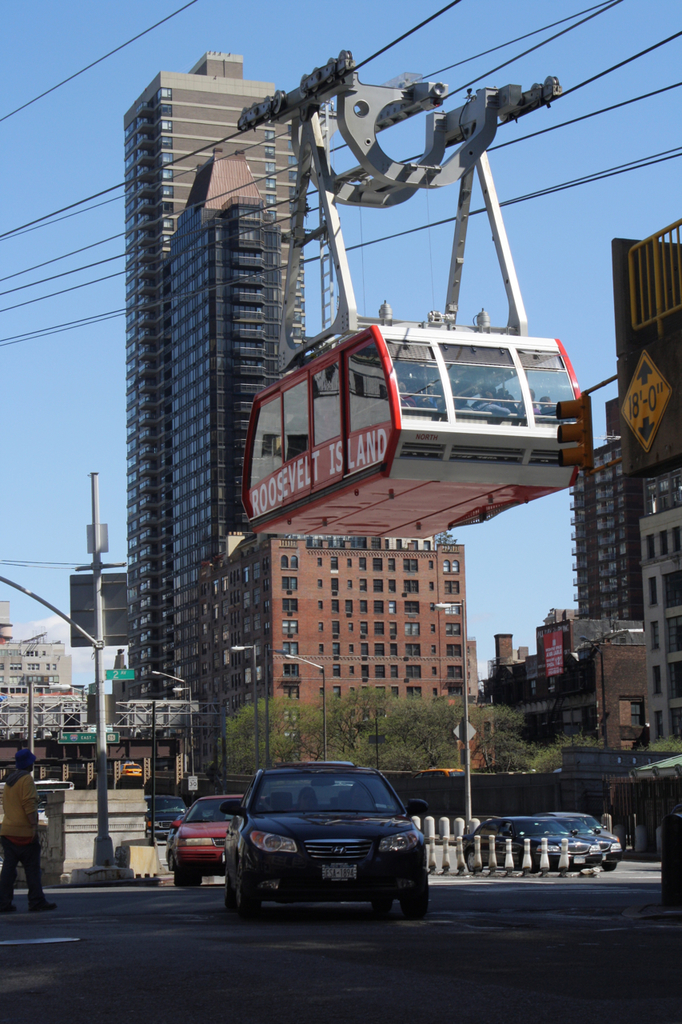Car: (223, 758, 429, 915), (165, 790, 239, 884), (466, 821, 599, 867), (554, 807, 617, 871), (147, 799, 180, 846)
